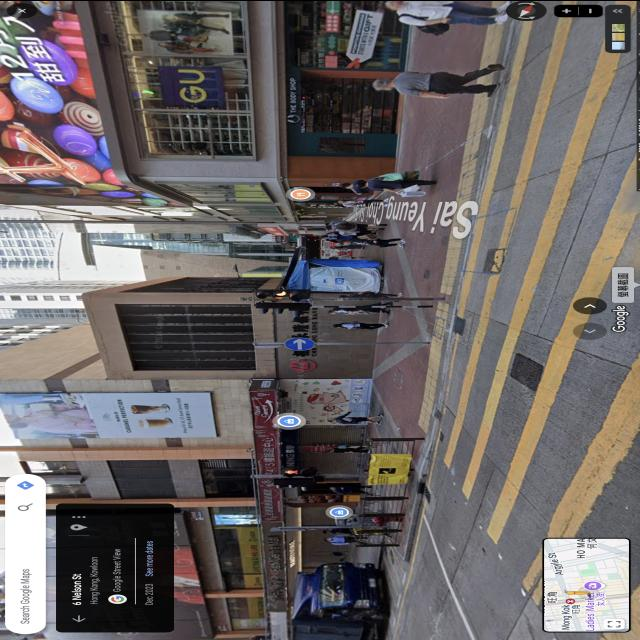Order-Sign: (285, 337, 315, 349)
